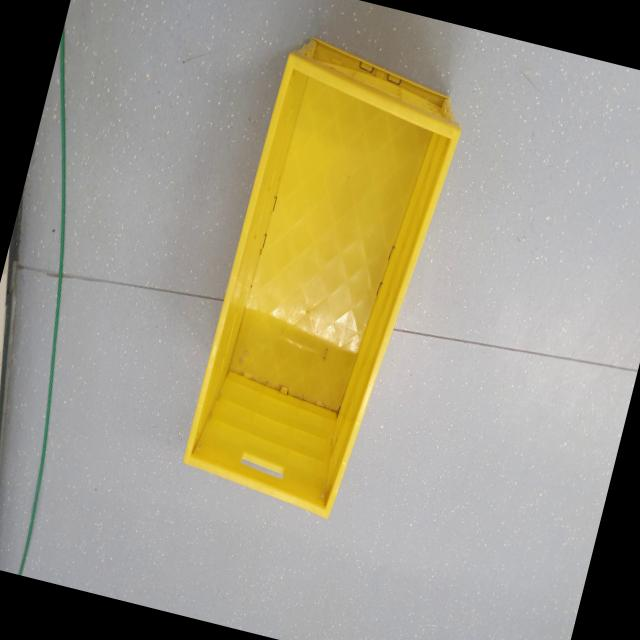box: (154, 11, 480, 542)
